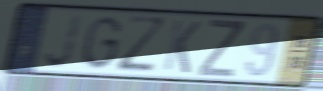9: (243, 21, 280, 80)
G: (78, 14, 125, 72)
J: (41, 11, 85, 70)
K: (160, 18, 203, 76)
Z: (114, 13, 171, 74), (195, 18, 247, 80)
